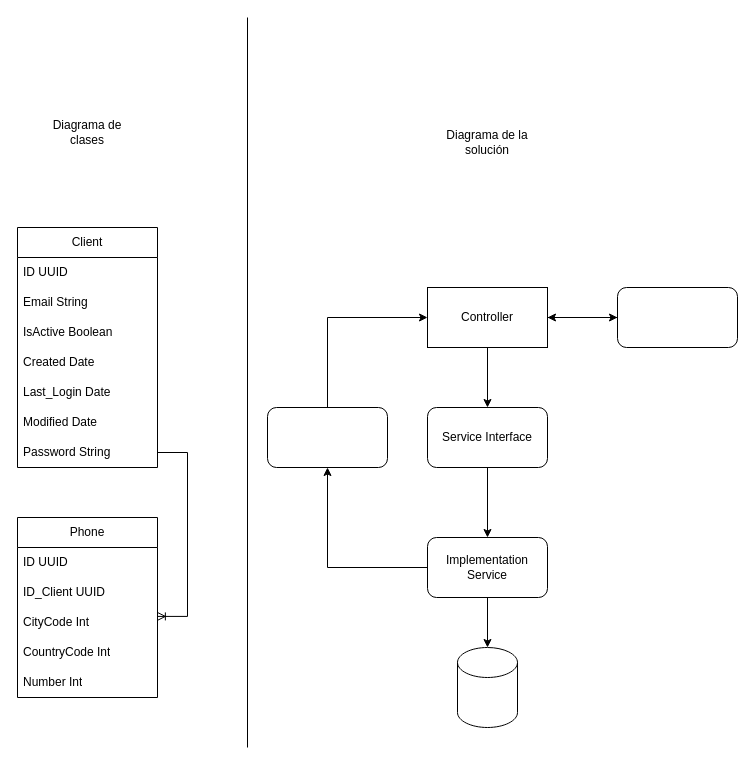
Some shapes in this 755 by 766 pixel diagram are drawn without their labels. Each missing label, with the centre of its shape:
"API" goes at point (677, 317).
"DB" goes at point (487, 687).
"Exception" goes at point (327, 437).
